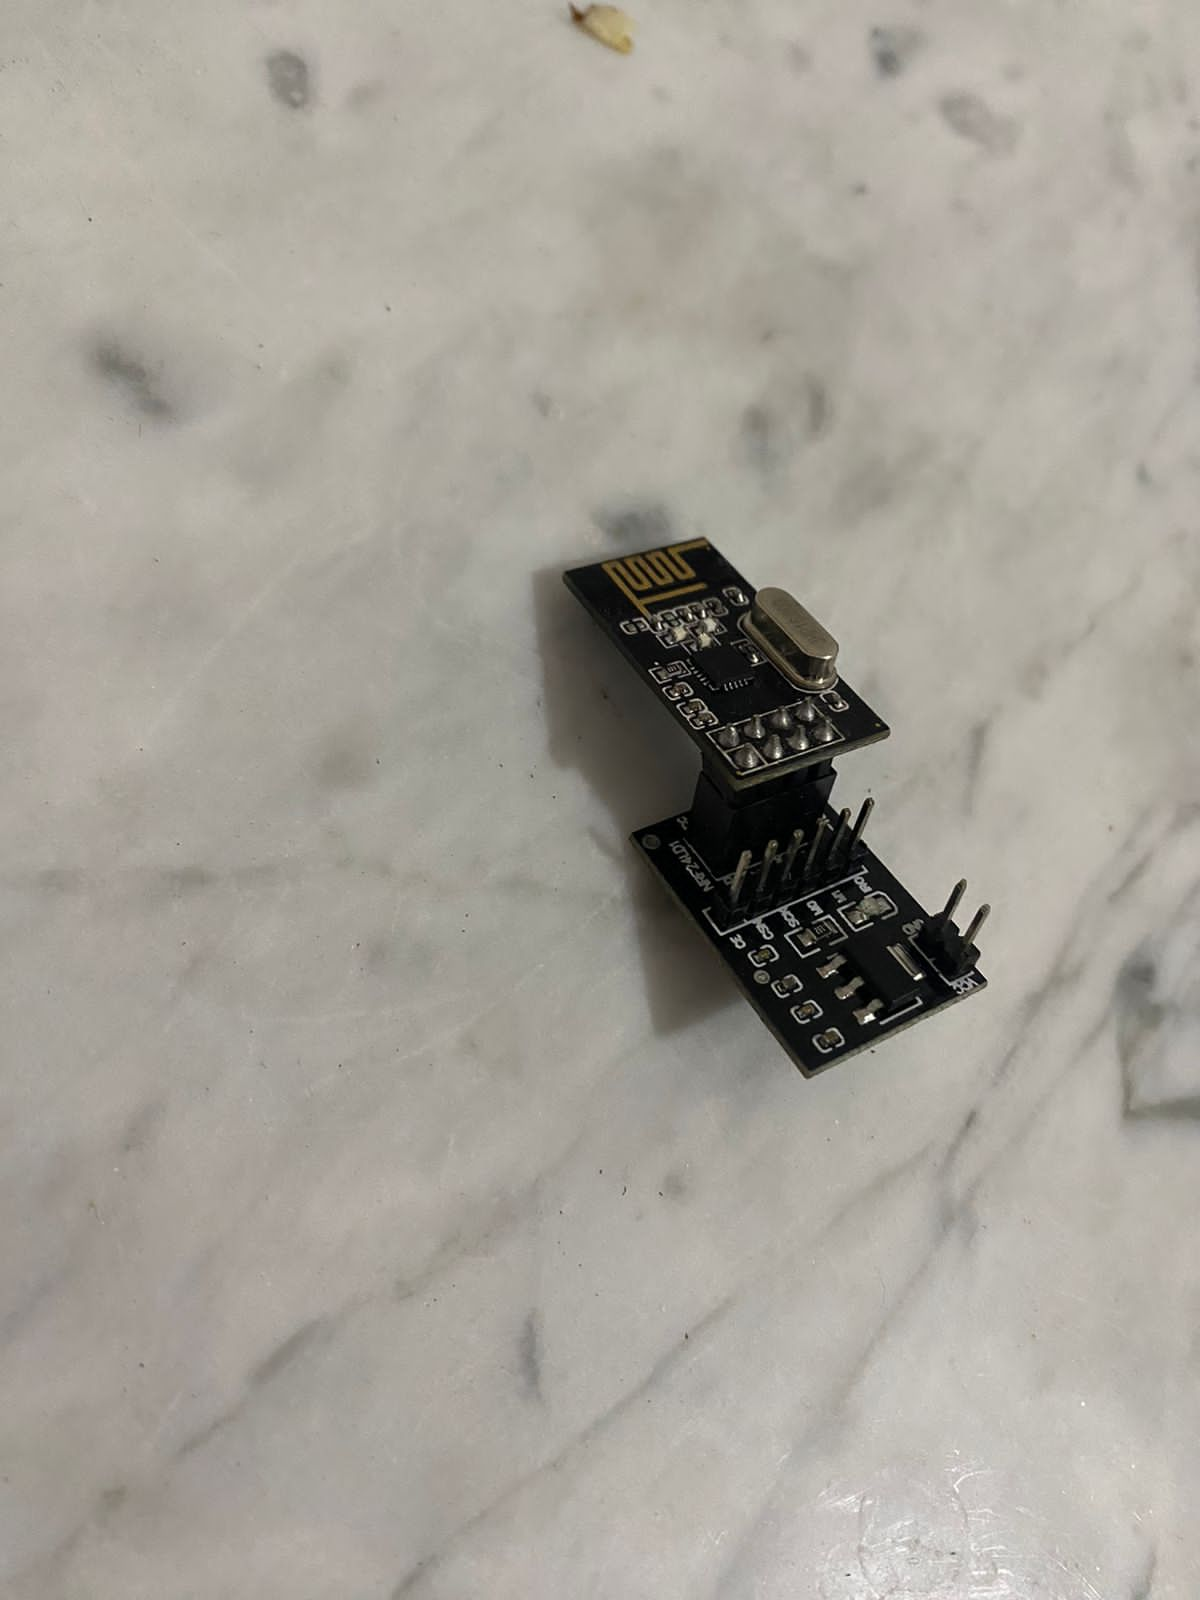RF-module: (562, 524, 995, 1072)
